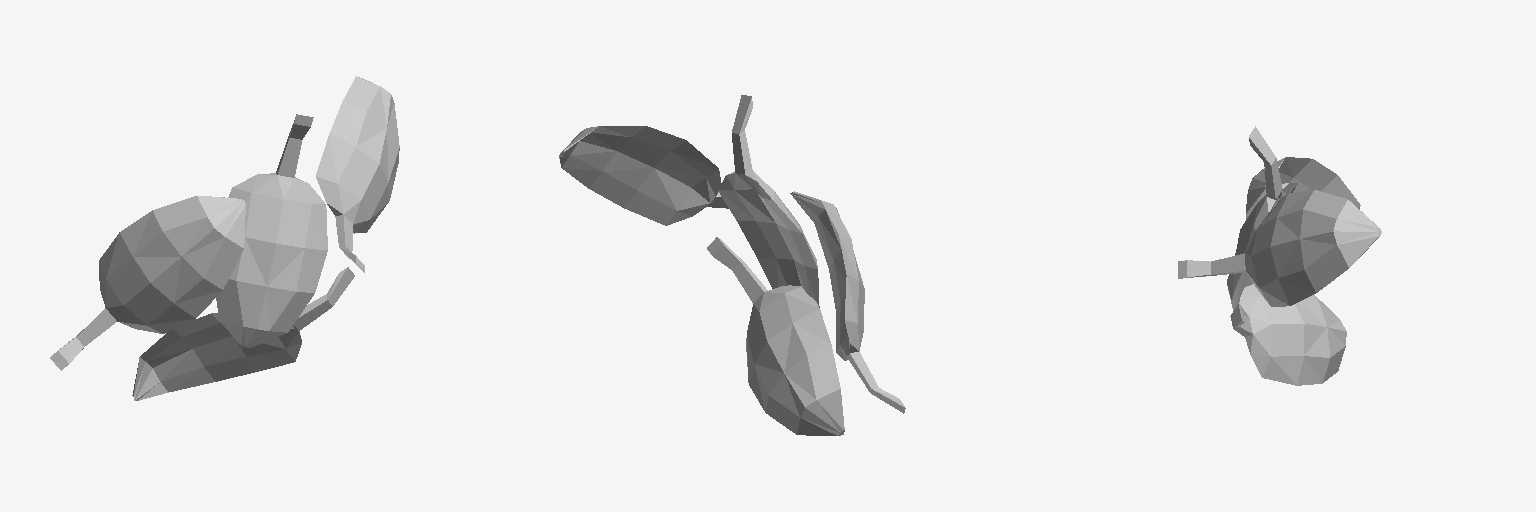
The model's file is nest_bed_4.obj.
3 views of the same model, side by side, from view 1: azimuth 30°, elevation 25°; view 2: azimuth 150°, elevation 25°; view 3: azimuth 270°, elevation 25° (orthographic).
Parts seen in each view (by area): view 1: Leaf_2.006, Leaf_1.006, Leaf_2.005, Leaf_3.006; view 2: Leaf_3.006, Leaf_2.005, Leaf_1.006, Leaf_2.006; view 3: Leaf_2.005, Leaf_3.006, Leaf_1.006, Leaf_2.006.
Boxes of the visible parts, x1=… form: Leaf_2.006: x1=50, y1=196, x2=245, y2=370; Leaf_1.006: x1=216, y1=114, x2=327, y2=347; Leaf_2.005: x1=316, y1=76, x2=399, y2=272; Leaf_3.006: x1=132, y1=267, x2=354, y2=400; Leaf_3.006: x1=707, y1=237, x2=844, y2=435; Leaf_2.005: x1=559, y1=126, x2=728, y2=225; Leaf_1.006: x1=718, y1=95, x2=819, y2=307; Leaf_2.006: x1=790, y1=191, x2=905, y2=413; Leaf_2.005: x1=1178, y1=190, x2=1381, y2=306; Leaf_3.006: x1=1230, y1=284, x2=1346, y2=385; Leaf_1.006: x1=1227, y1=126, x2=1297, y2=310; Leaf_2.006: x1=1246, y1=157, x2=1360, y2=219.
Bounding box in the file's own units: 1.01 × 0.8028 × 0.518.